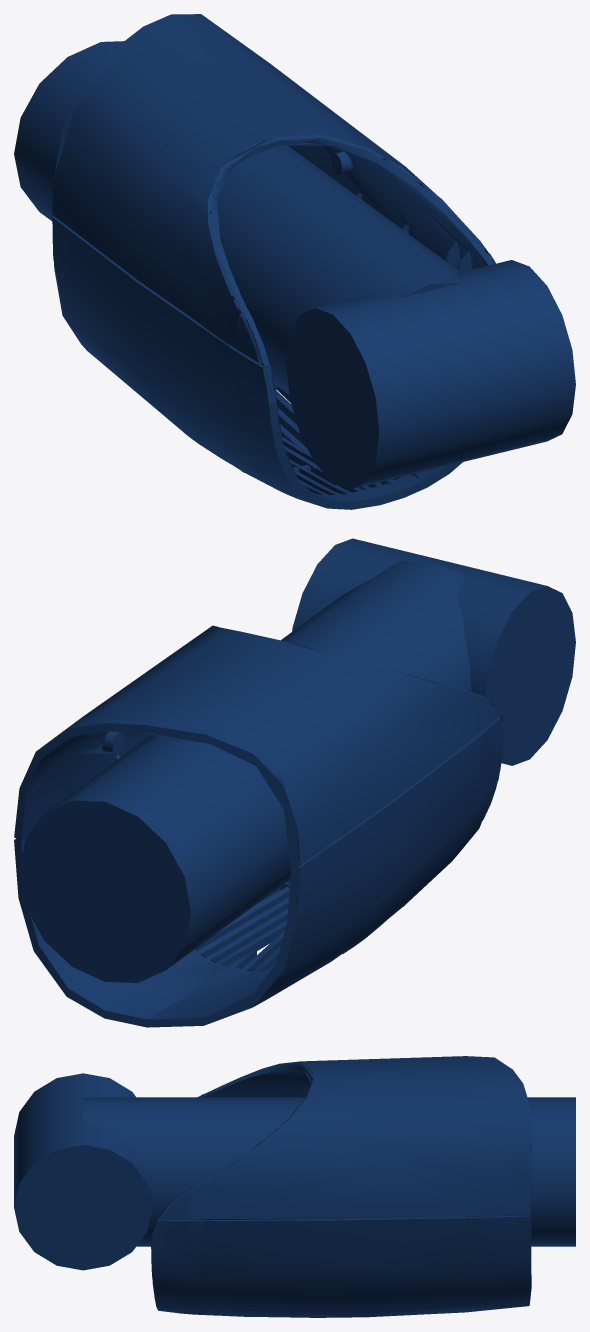
Rendered from icub_r_thigh.dae.
3 renders of one model, top to bottom at view 1: azimuth 30°, elevation 25°; view 2: azimuth 150°, elevation 25°; view 3: azimuth 270°, elevation 25°, orthographic. The views are drawn at different scales.
Parts seen in each view (by area): view 1: r_upperleg_mesh, r_thigh_cyl2_mesh, r_thigh_cyl1_mesh; view 2: r_upperleg_mesh, r_thigh_cyl1_mesh, r_thigh_cyl2_mesh; view 3: r_upperleg_mesh, r_thigh_cyl2_mesh, r_thigh_cyl1_mesh.
Part boxes in pixels (bbox=[...]): r_upperleg_mesh: bbox=[52, 14, 495, 509]; r_thigh_cyl2_mesh: bbox=[286, 260, 575, 489]; r_thigh_cyl1_mesh: bbox=[14, 41, 463, 394]; r_upperleg_mesh: bbox=[14, 625, 503, 1027]; r_thigh_cyl1_mesh: bbox=[19, 561, 471, 982]; r_thigh_cyl2_mesh: bbox=[292, 538, 575, 765]; r_upperleg_mesh: bbox=[151, 1056, 531, 1317]; r_thigh_cyl2_mesh: bbox=[14, 1073, 152, 1270]; r_thigh_cyl1_mesh: bbox=[83, 1097, 575, 1246].
Size of the model in its own units: 0.1029 by 0.1178 by 0.2555.
